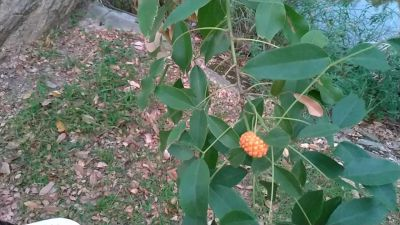eggs: (239, 128, 272, 164)
